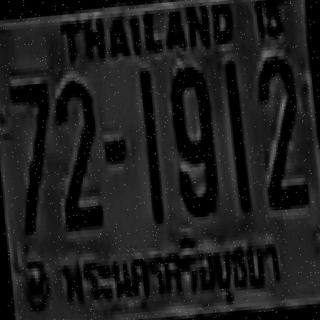N01: (222, 60, 249, 210), (138, 69, 162, 222)
N02: (255, 53, 305, 206), (52, 76, 102, 228)
N07: (8, 80, 58, 232)
N09: (168, 62, 217, 215)
P03: (54, 223, 288, 319)
